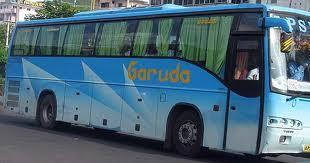Bus: (0, 3, 309, 160)
